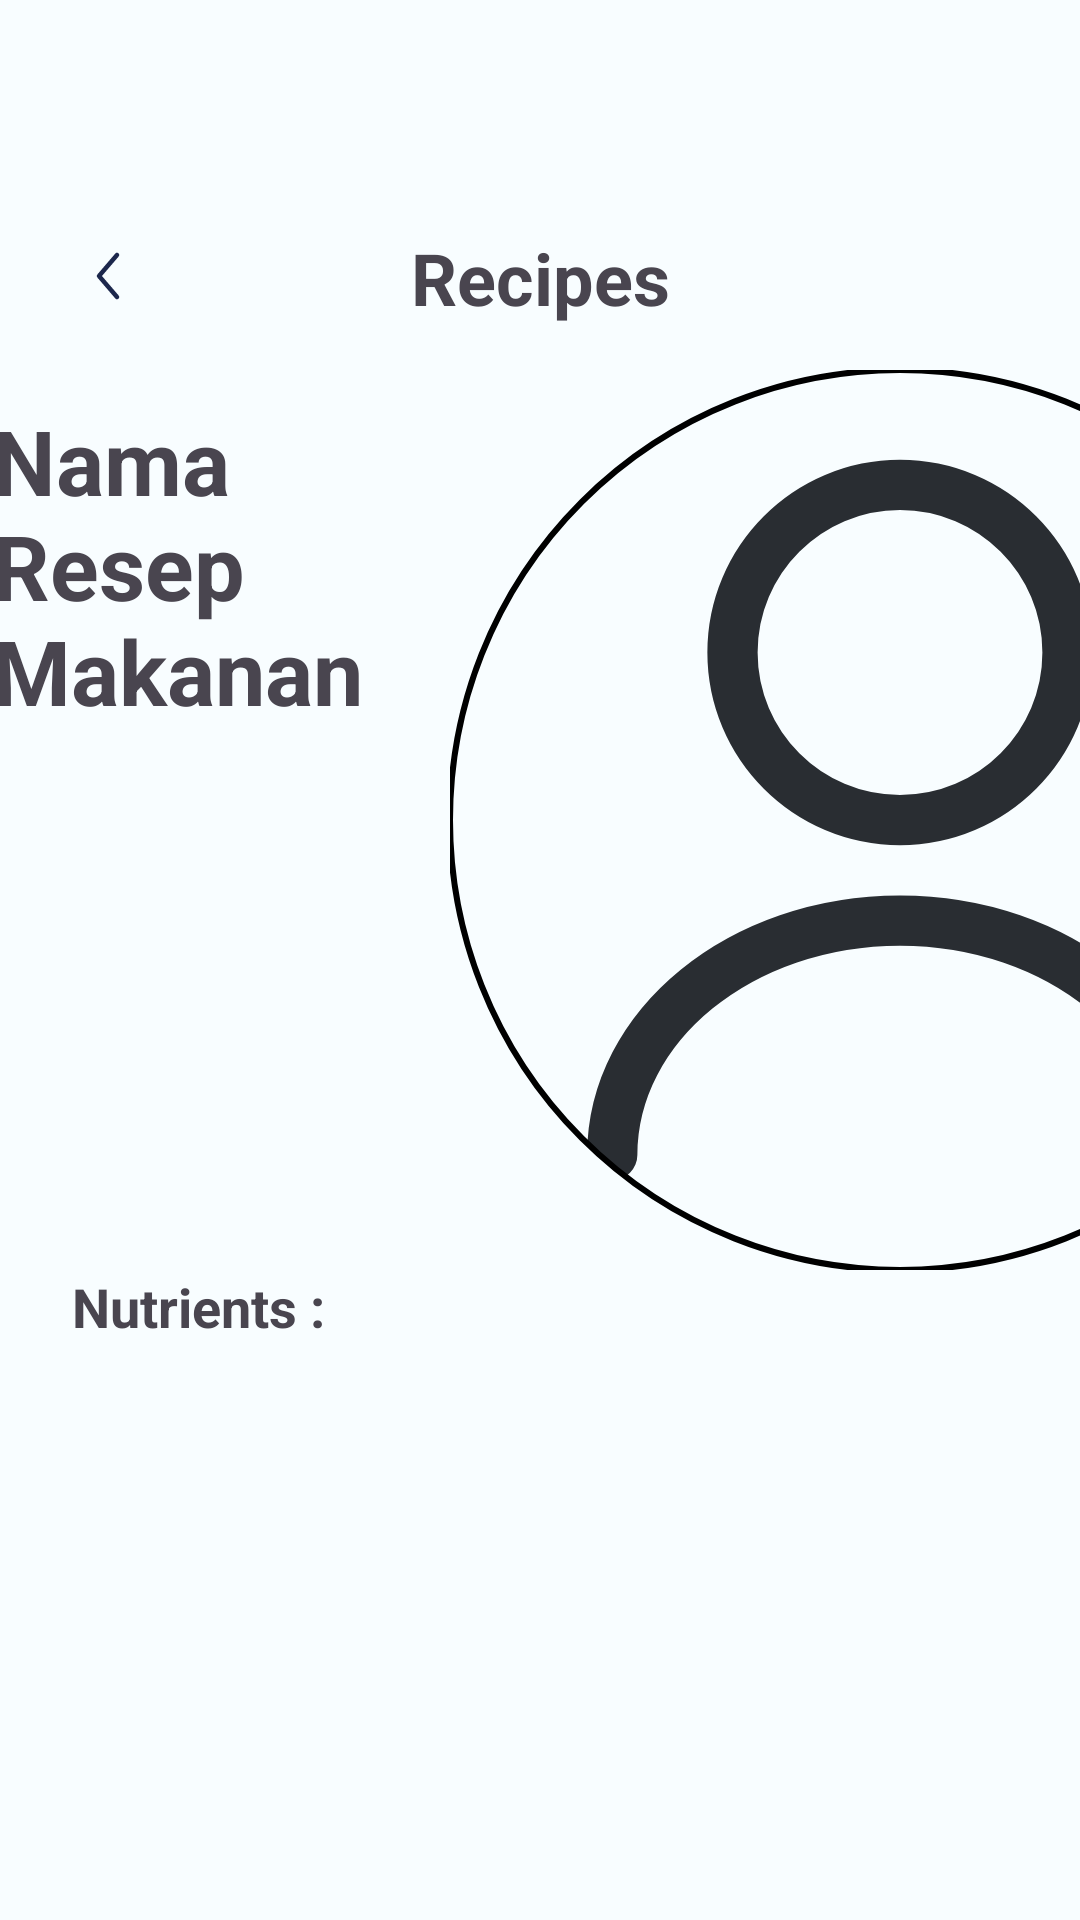

Icons on this 1080w x 1920h Android screen, each with its box as [x1,y1,x2,y2]:
Back Button: [96,252,120,300]
